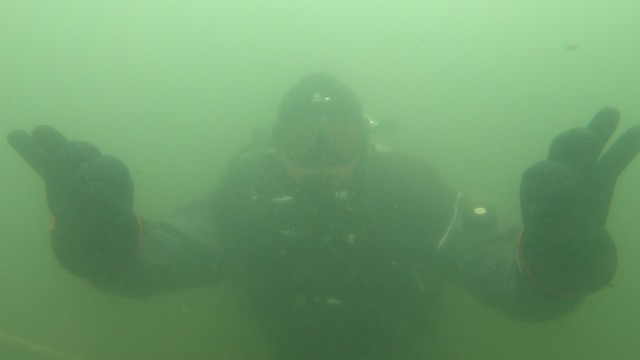Diver: (10, 59, 637, 347)
Hand: (481, 96, 633, 314), (2, 121, 150, 293)
Head: (259, 68, 386, 240)
